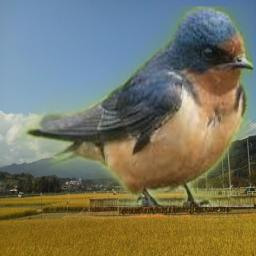Swallow: (15, 6, 254, 207)
